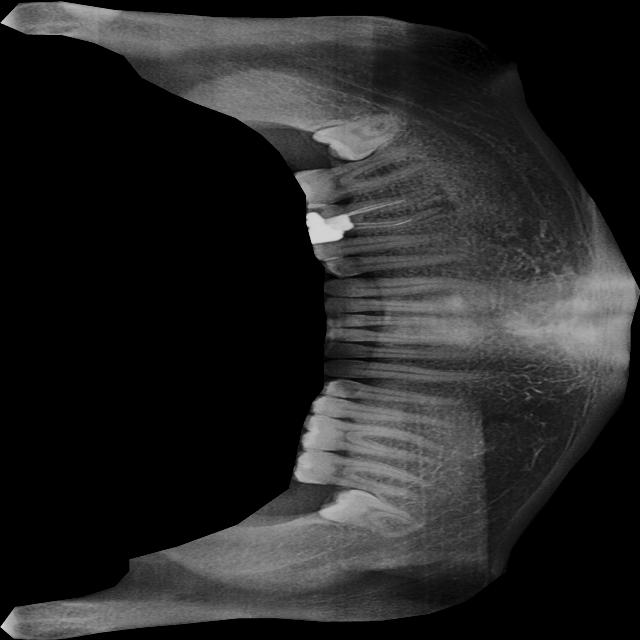mandibula: (0, 0, 640, 640)
